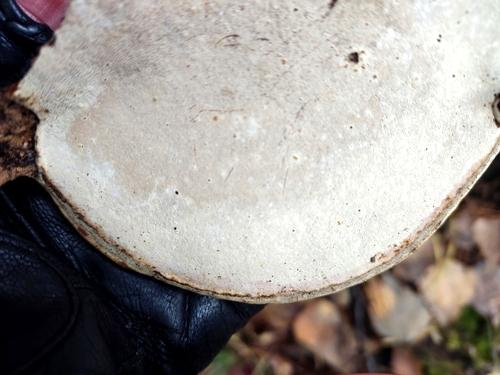Ganoderma - Fruit Body: (20, 0, 500, 304)
